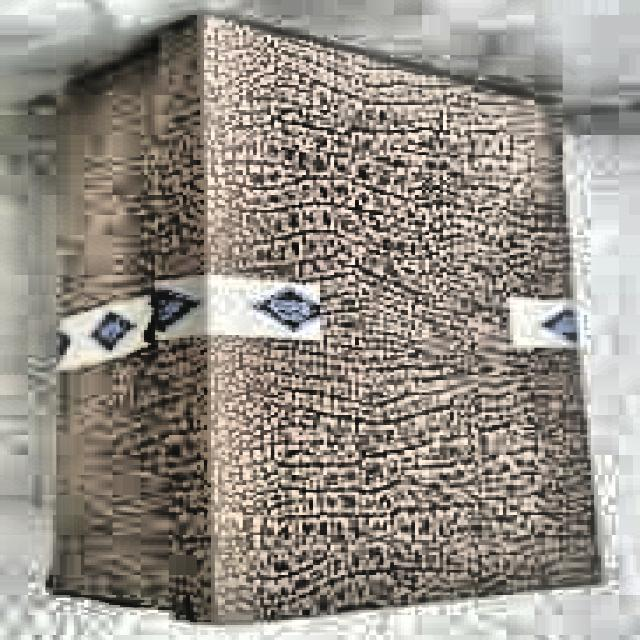cardboard: (46, 15, 608, 630)
